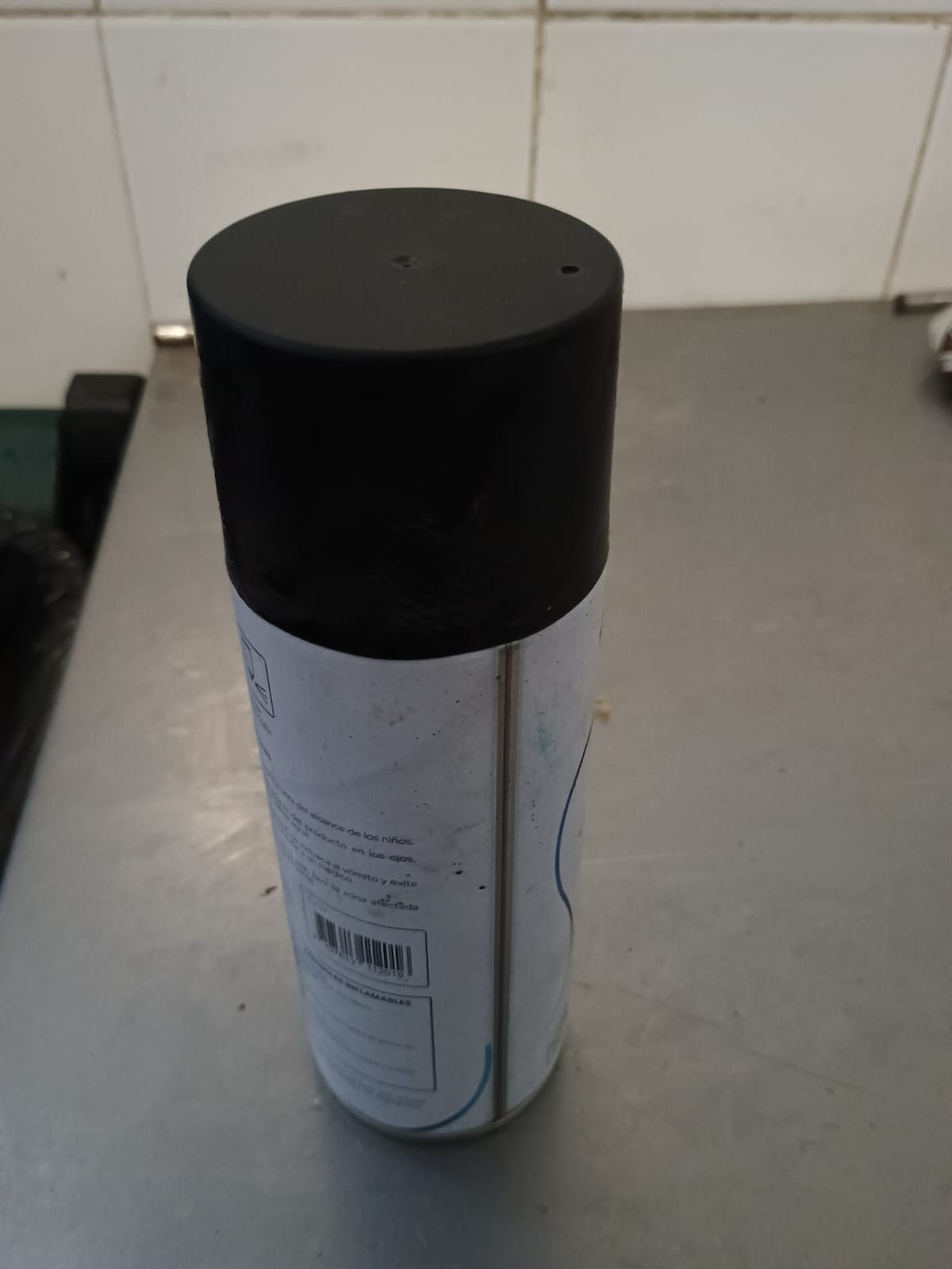Metal: (221, 575, 637, 1147)
Plastico: (188, 189, 634, 573)
